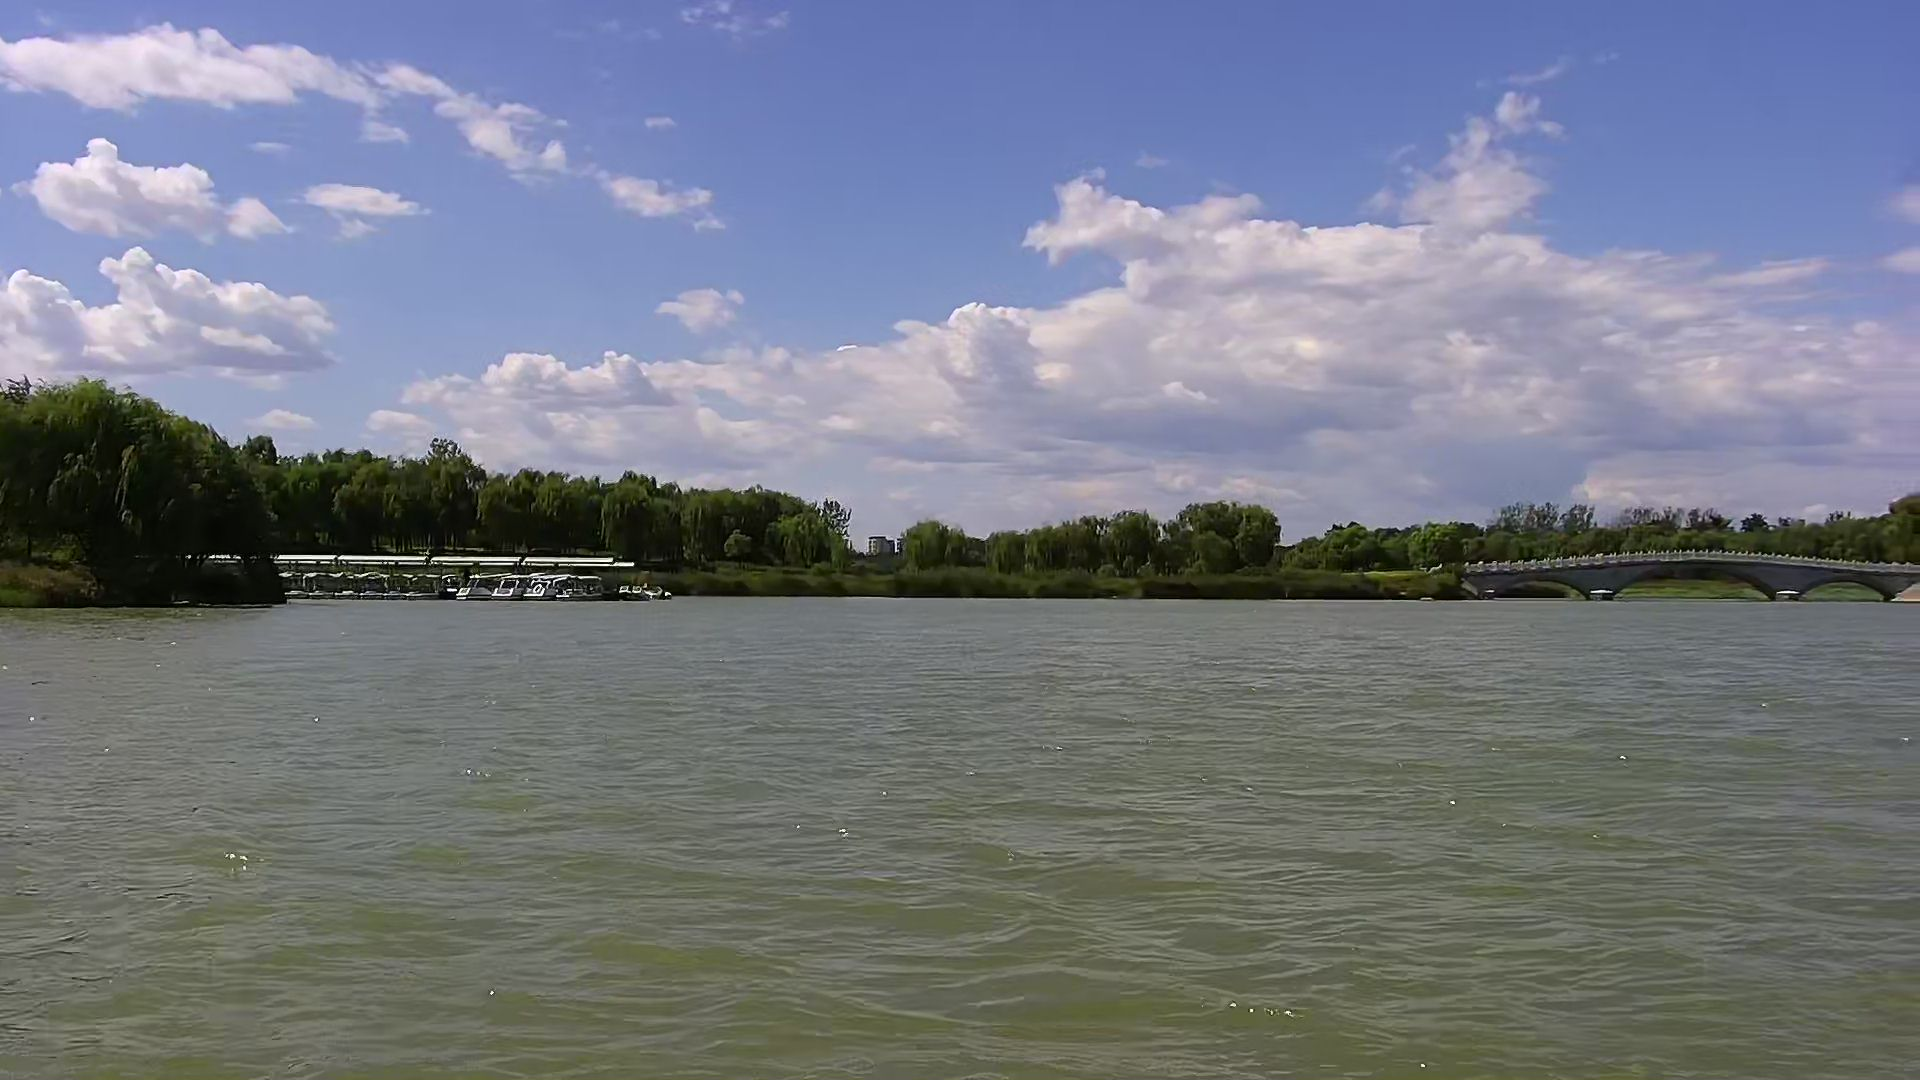bridge: (1458, 549, 1920, 603)
harbor: (273, 549, 666, 604)
